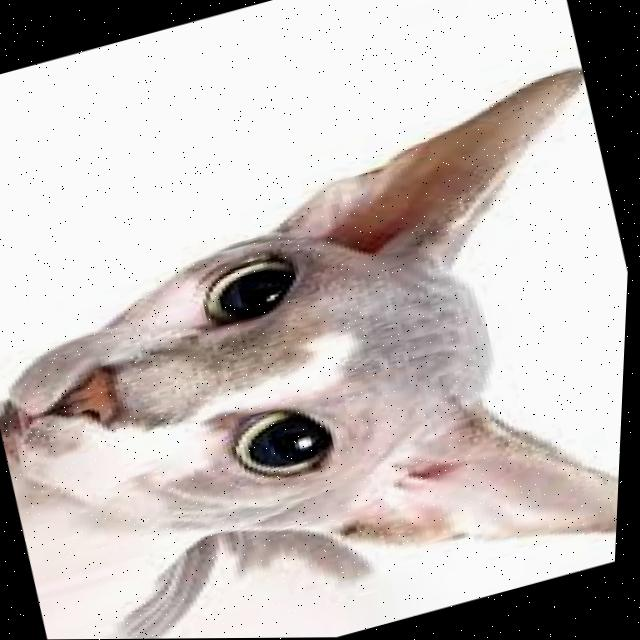Sphynx: (0, 59, 638, 640)
